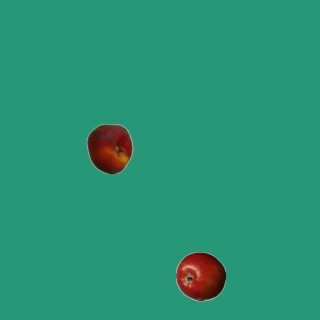Apple Braeburn: (175, 251, 225, 301)
Nectarine Flat: (84, 123, 134, 173)
